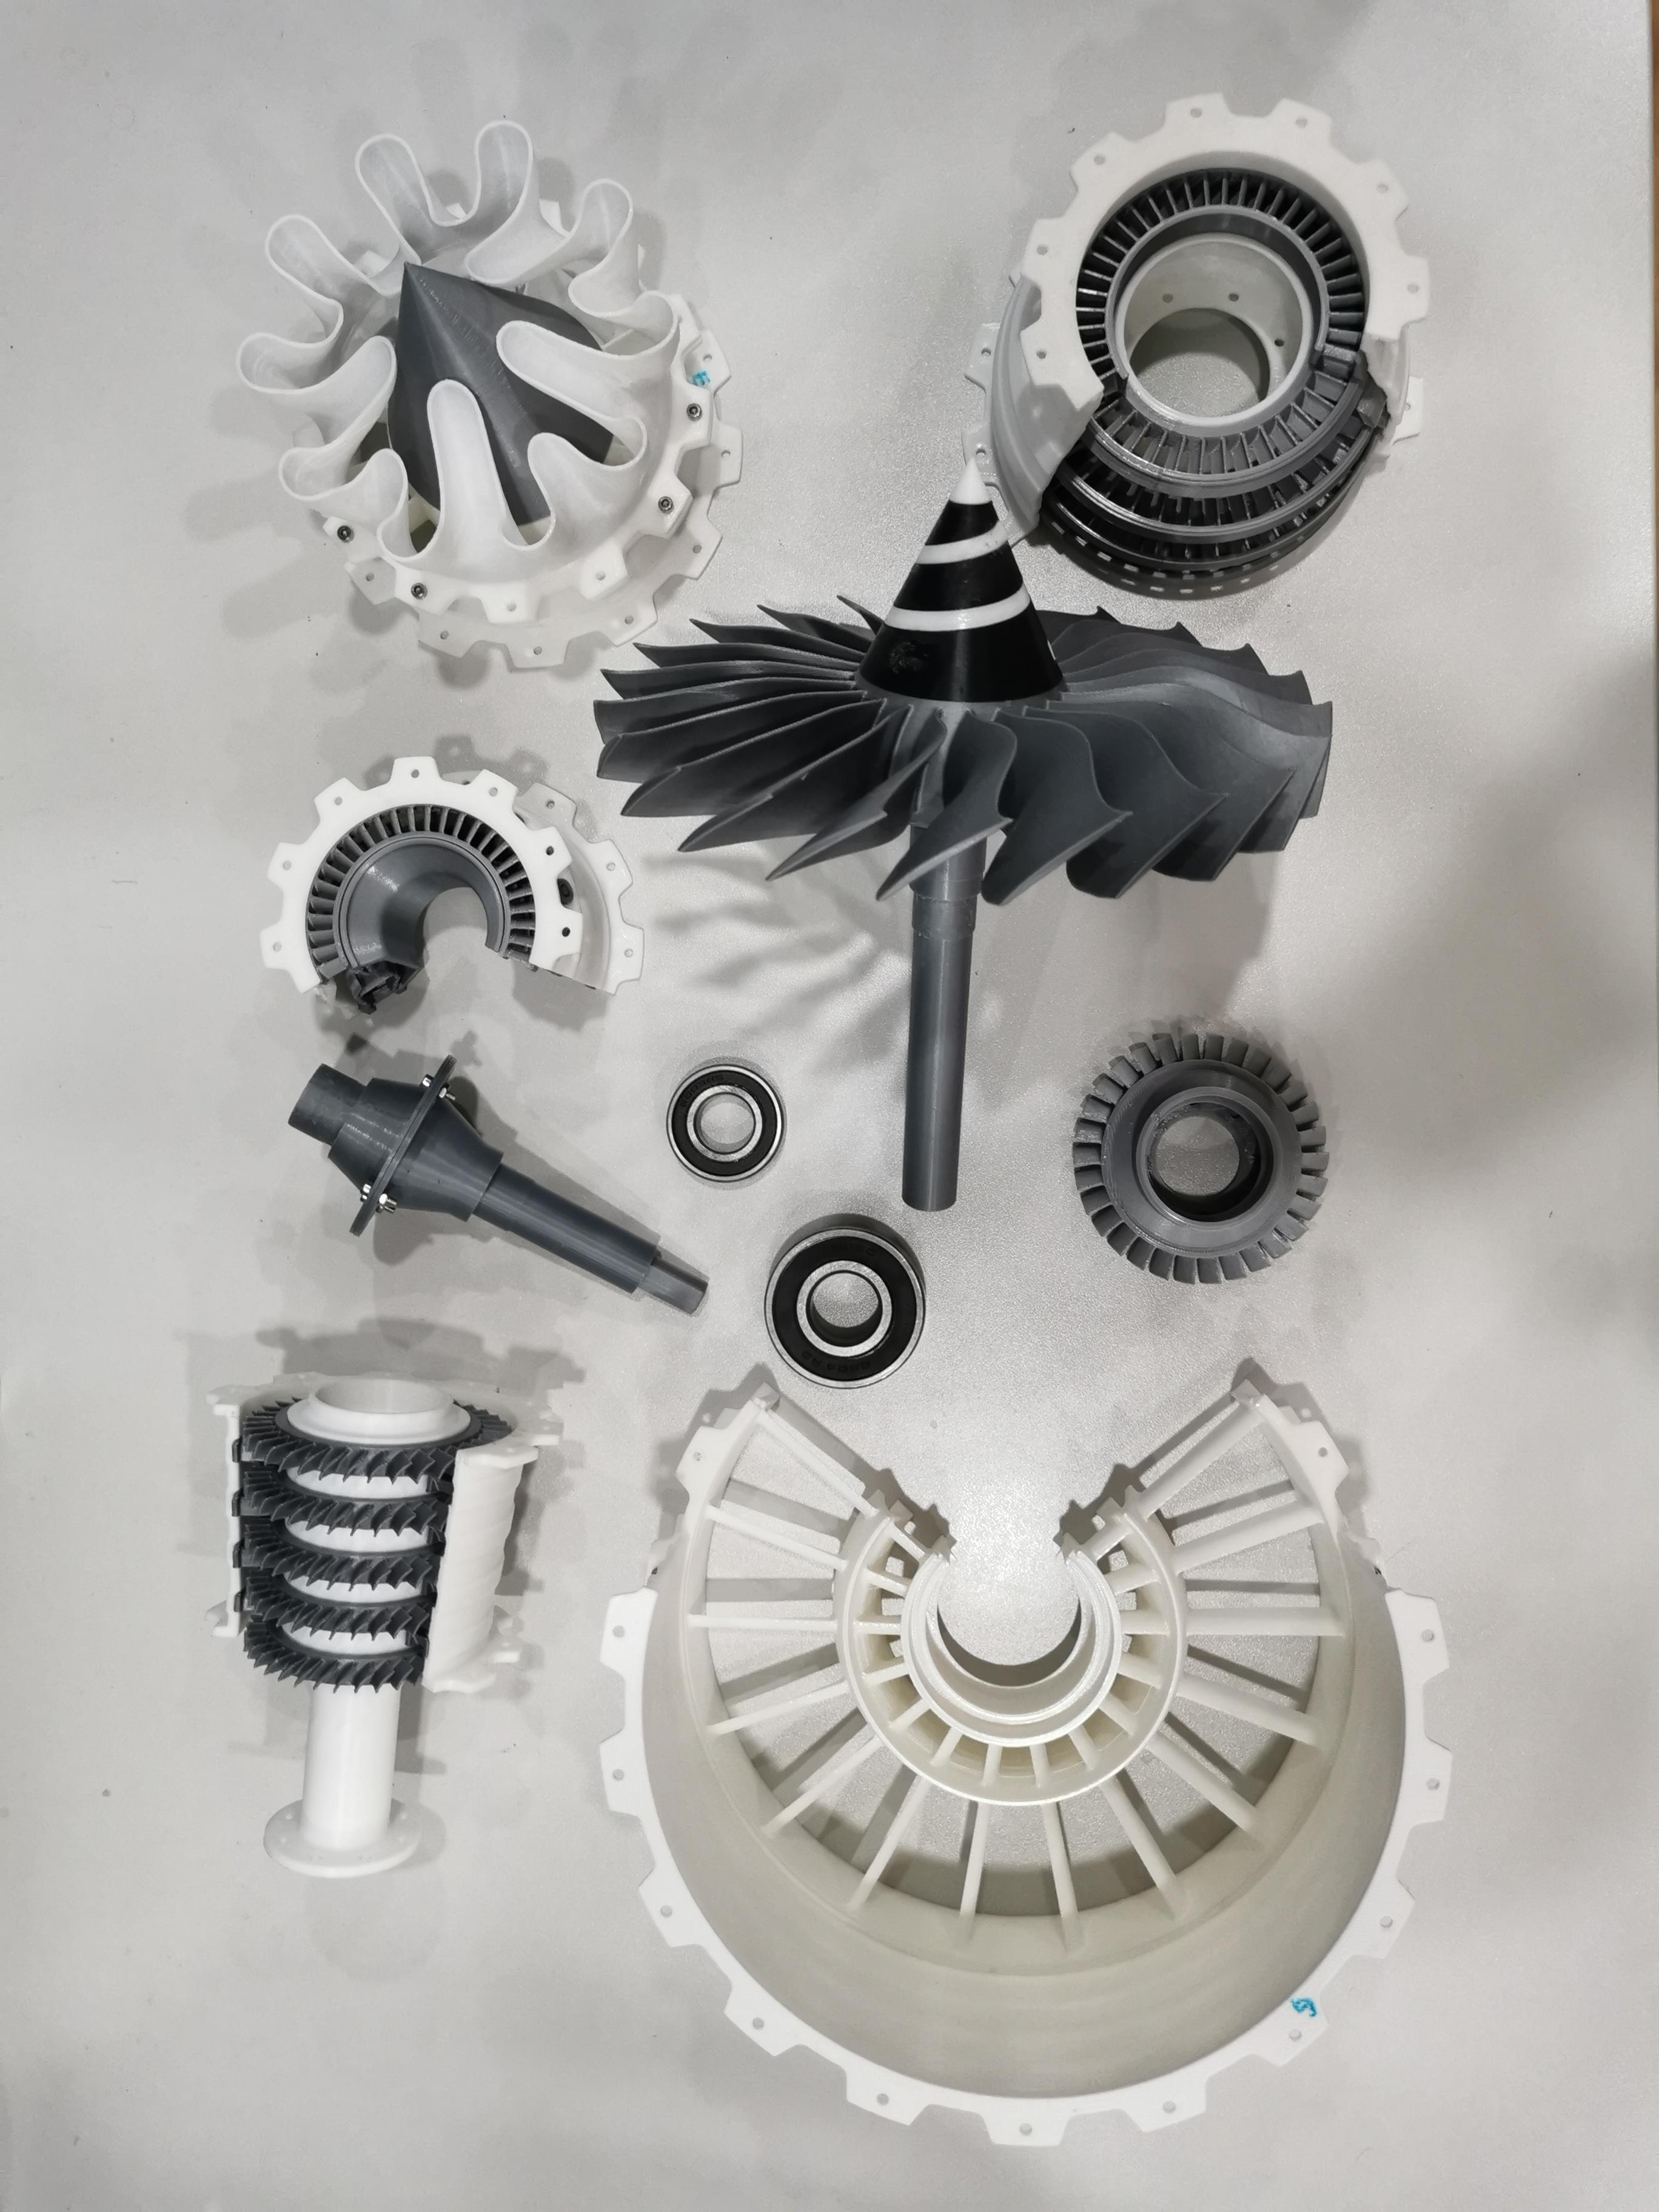Bearing-6003: (648, 1045, 796, 1198)
Bearing-6204: (746, 1207, 939, 1409)
Combustion Section: (246, 742, 655, 1052)
Fan Casing and Support: (589, 1366, 1466, 2156)
Fan and Low Pressure Shaft: (577, 439, 1347, 1219)
HPT Section: (1056, 1008, 1335, 1296)
High Pressure Spool: (178, 1352, 565, 1916)
LPT Section: (932, 68, 1439, 606)
Low Pressure Spool: (263, 1040, 714, 1324)
Nozzle Section: (218, 101, 751, 685)
